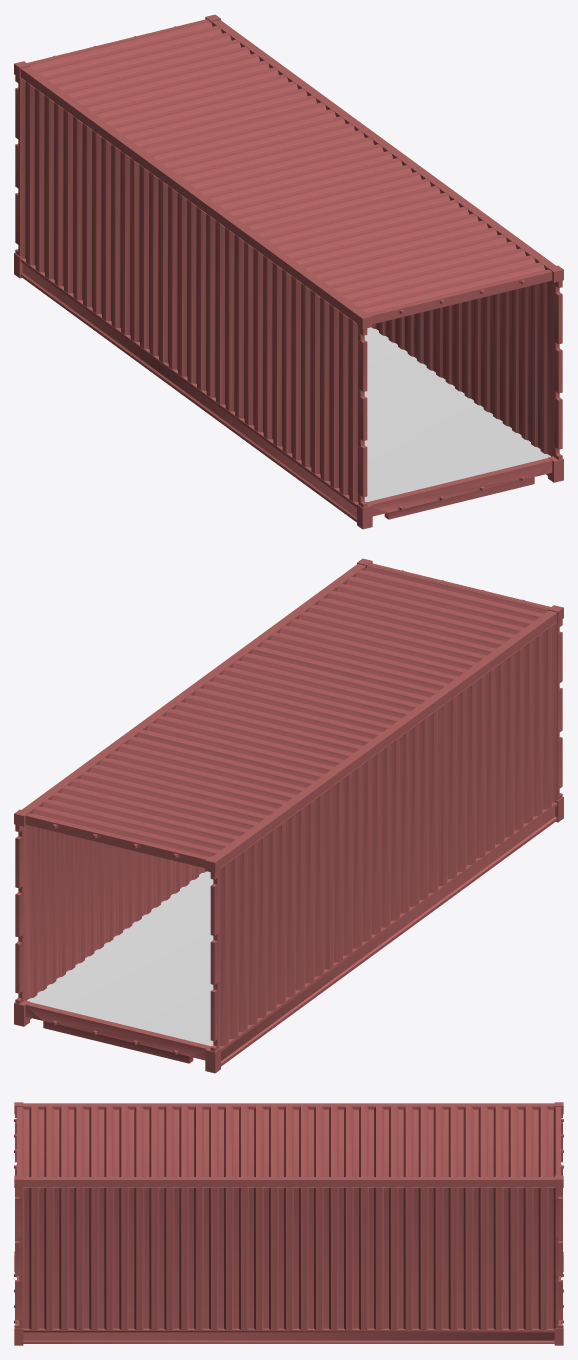
Rendered from shipping_container_big_no_doors.fbx.
3 renders of one model, top to bottom at view 1: azimuth 30°, elevation 25°; view 2: azimuth 150°, elevation 25°; view 3: azimuth 270°, elevation 25°, orthographic. The views are drawn at different scales.
Parts seen in each view (by area): view 1: shipping_container_big_no_doors; view 2: shipping_container_big_no_doors; view 3: shipping_container_big_no_doors.
Boxes of the visible parts, box(x1,y1,x2,y2) form: shipping_container_big_no_doors: box(14, 14, 563, 529); shipping_container_big_no_doors: box(14, 558, 563, 1073); shipping_container_big_no_doors: box(14, 1102, 563, 1345).
Size of the model in its own units: 160 by 160 by 480.
